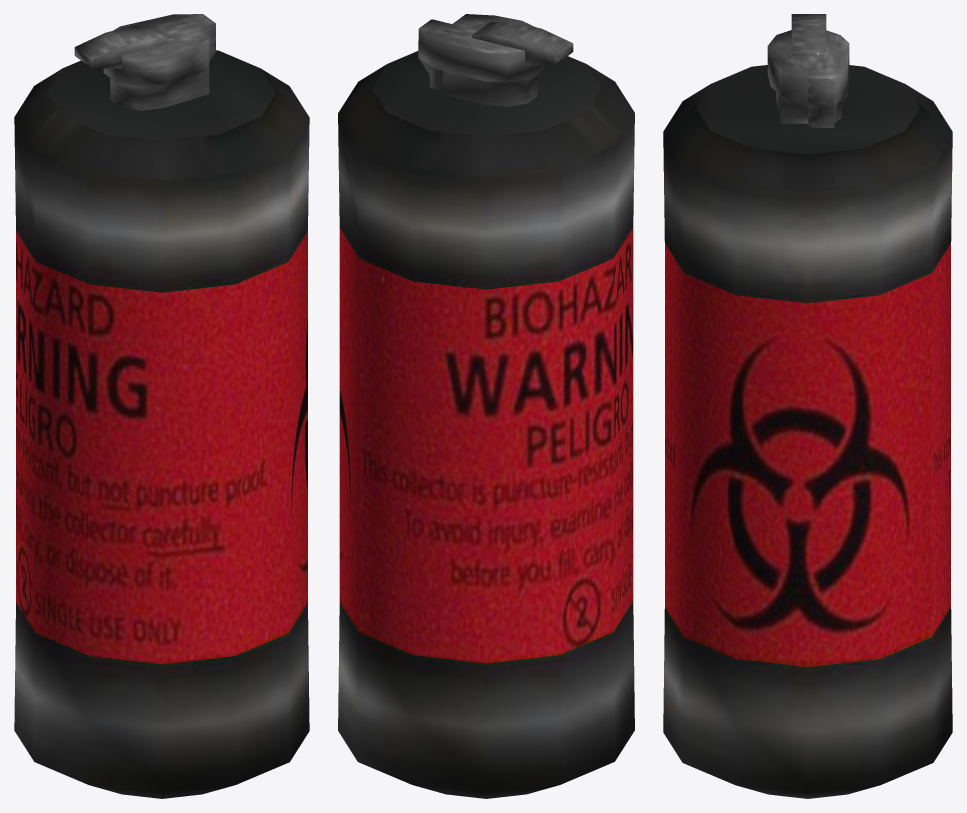
Rendered from canister2.obj.
3 views of the same model, side by side, from view 1: azimuth 30°, elevation 25°; view 2: azimuth 150°, elevation 25°; view 3: azimuth 270°, elevation 25° (orthographic). The views are drawn at different scales.
Visible parts, largest first — view 1: cylinder2_sep8, cylinder2; view 2: cylinder2_sep8, cylinder2; view 3: cylinder2_sep8, cylinder2.
Part boxes in pixels (bbox=[...]): cylinder2_sep8: bbox=[14, 50, 309, 798]; cylinder2: bbox=[74, 14, 215, 110]; cylinder2_sep8: bbox=[338, 51, 634, 798]; cylinder2: bbox=[418, 14, 573, 106]; cylinder2_sep8: bbox=[663, 65, 952, 798]; cylinder2: bbox=[767, 14, 849, 127].
Bounding box in the file's own units: 1.78 × 4.91 × 1.79.
